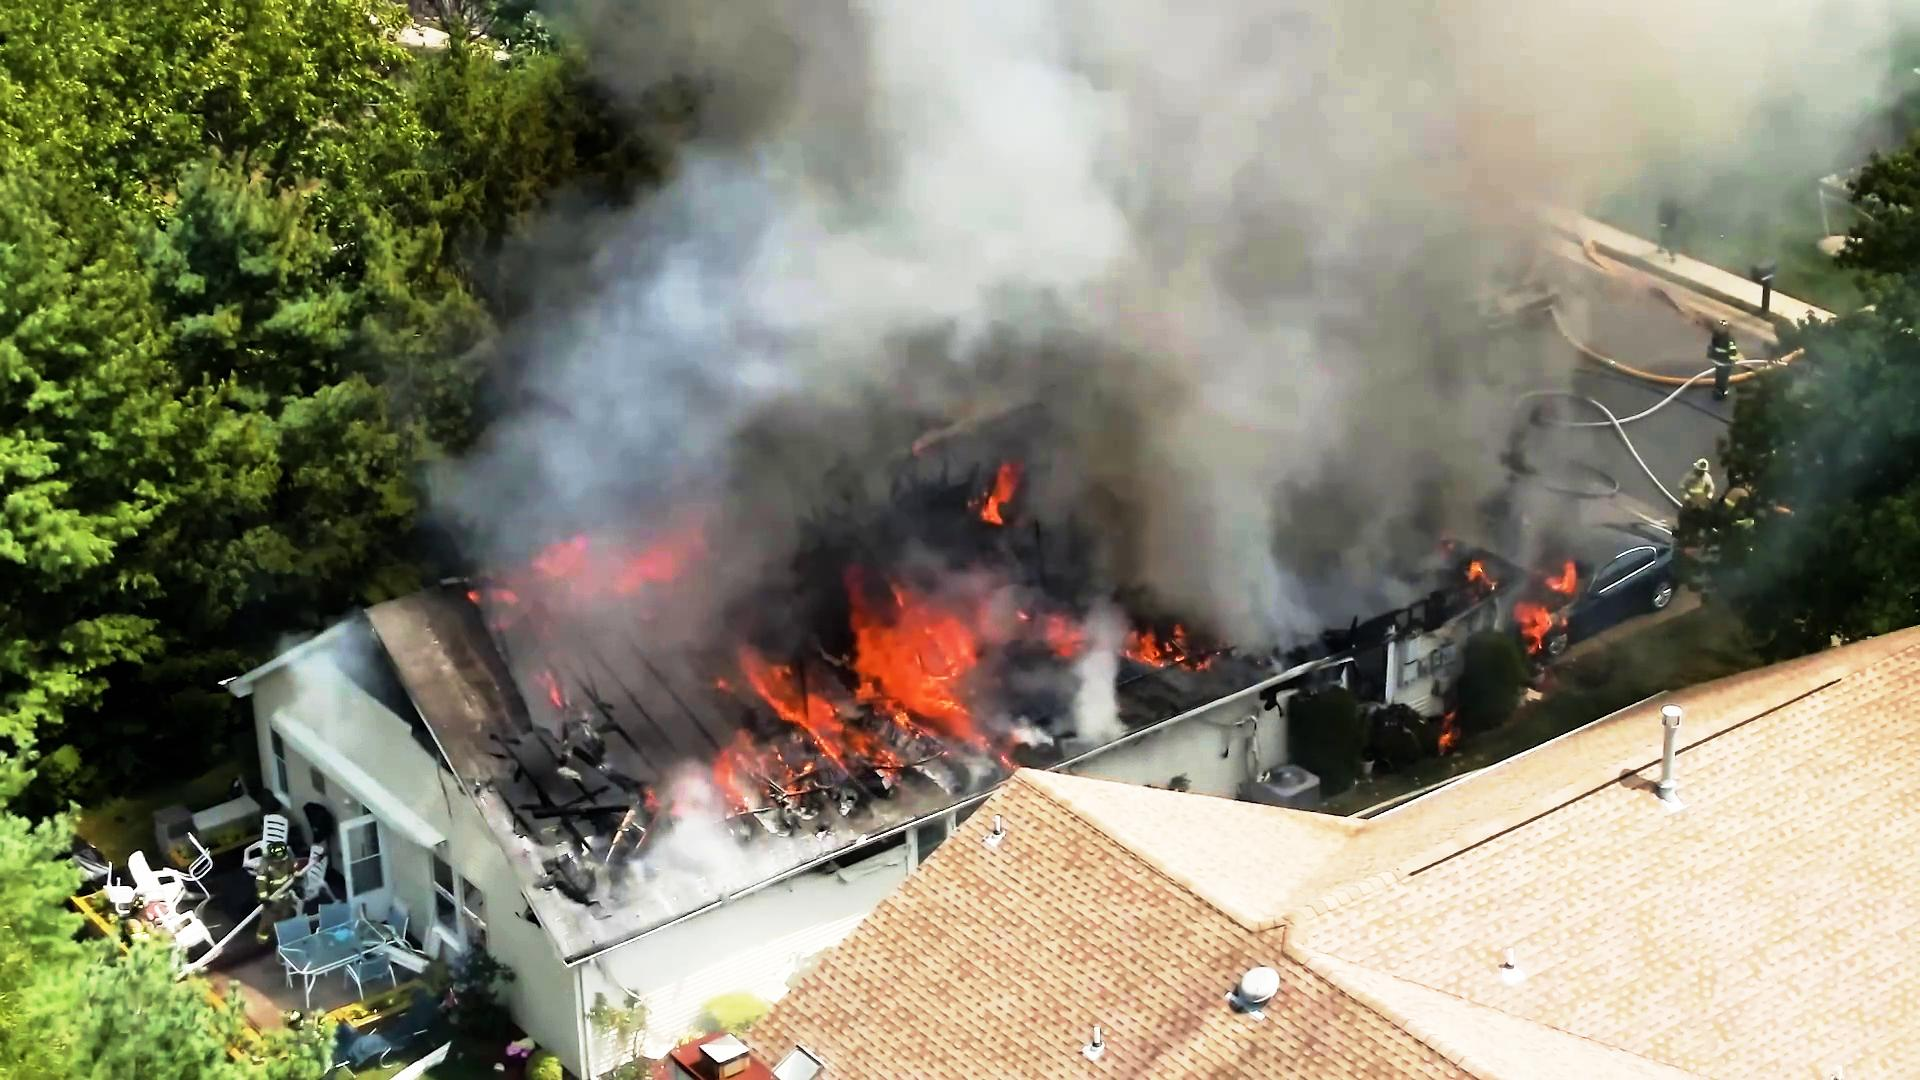fire: (736, 0, 1313, 316), (799, 570, 989, 765)
